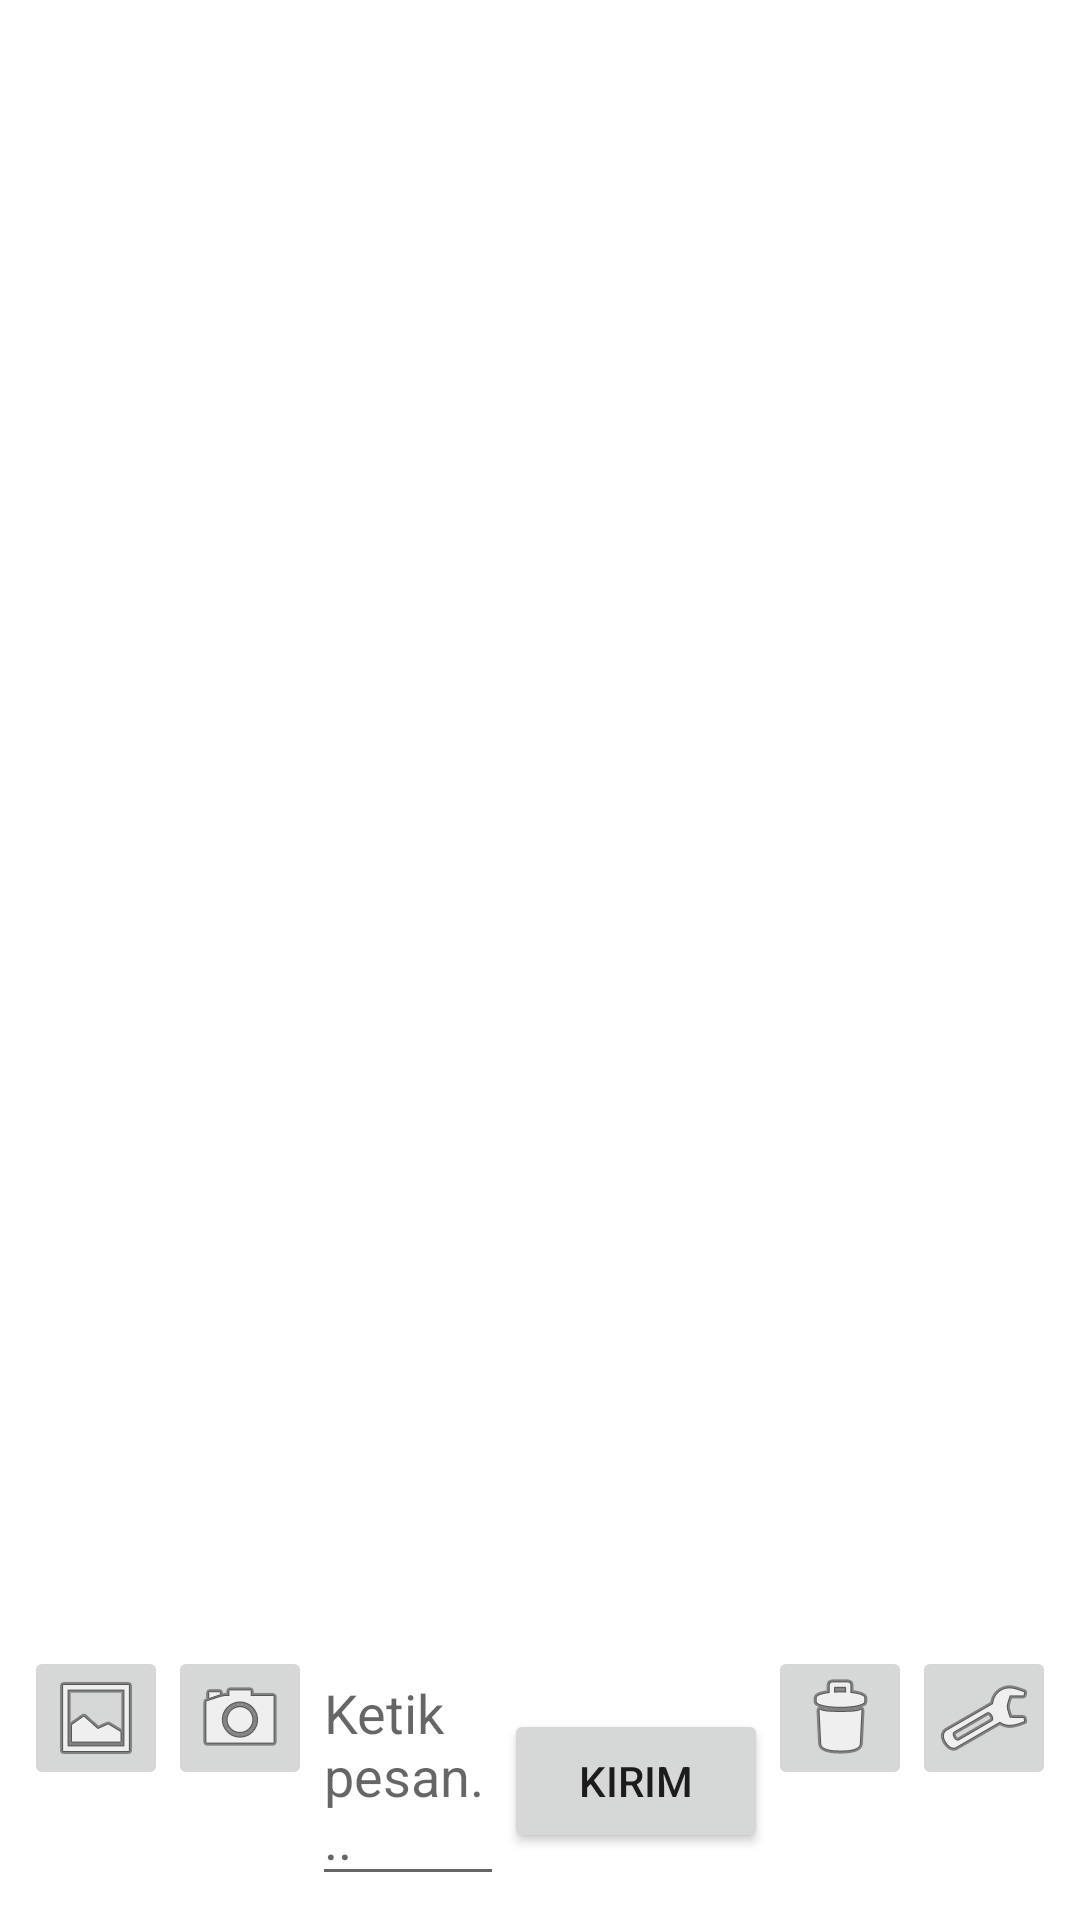

Point at icon controls on the screen. Image size 1080px x 1920px, points as (x=x, y=y).
Attach image: (x=96, y=1718)
Camera: (x=240, y=1718)
Clear: (x=840, y=1718)
Settings: (x=984, y=1718)
